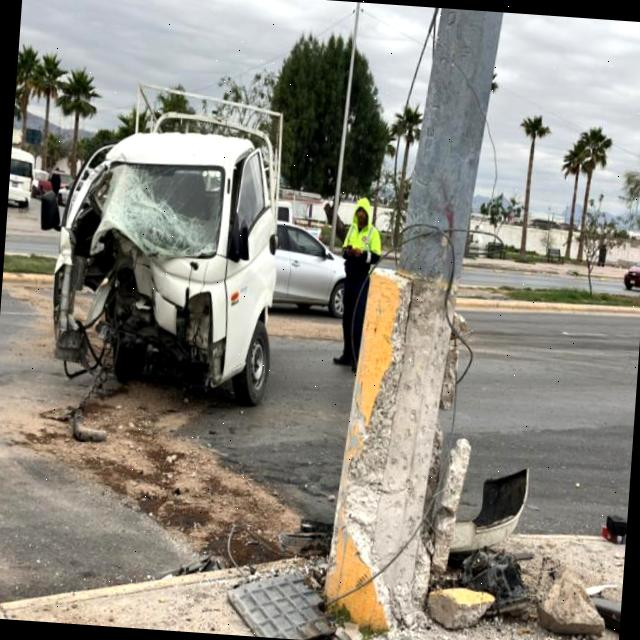Broken Pole: (312, 1, 505, 640)
